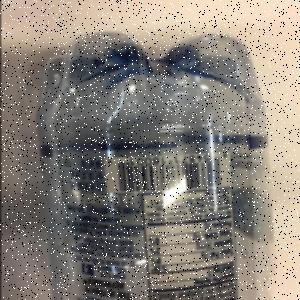Plastic-bottle: (36, 31, 276, 300)
